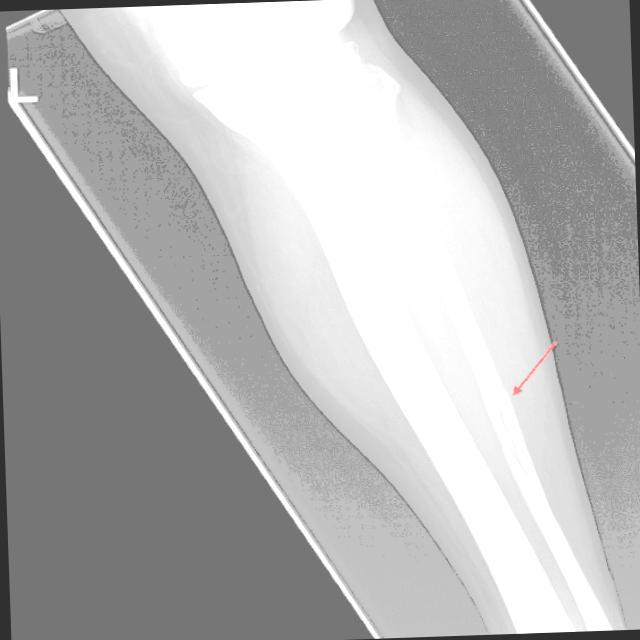Comminuted Fracture: (465, 366, 530, 440)
